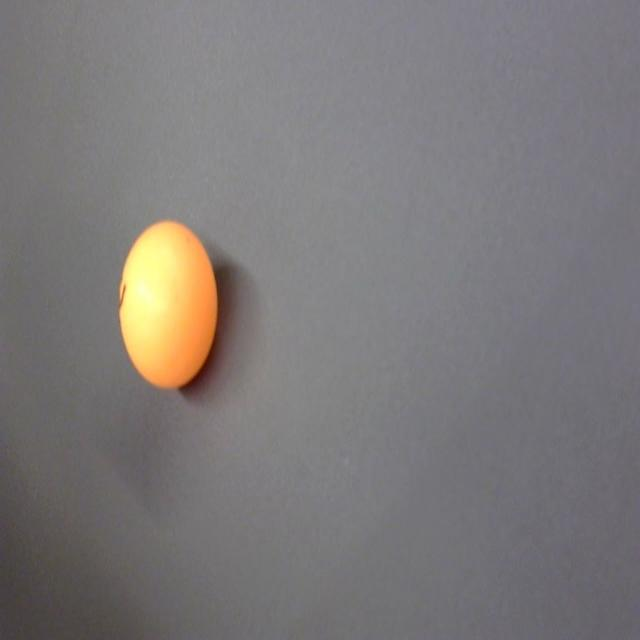ball: (114, 216, 223, 396)
